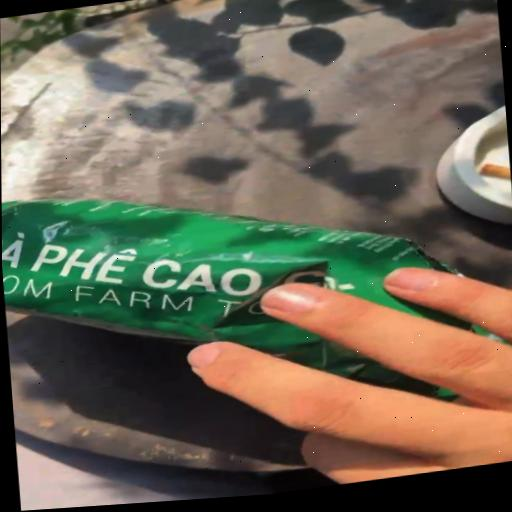cafe_xay: (1, 198, 469, 397)
